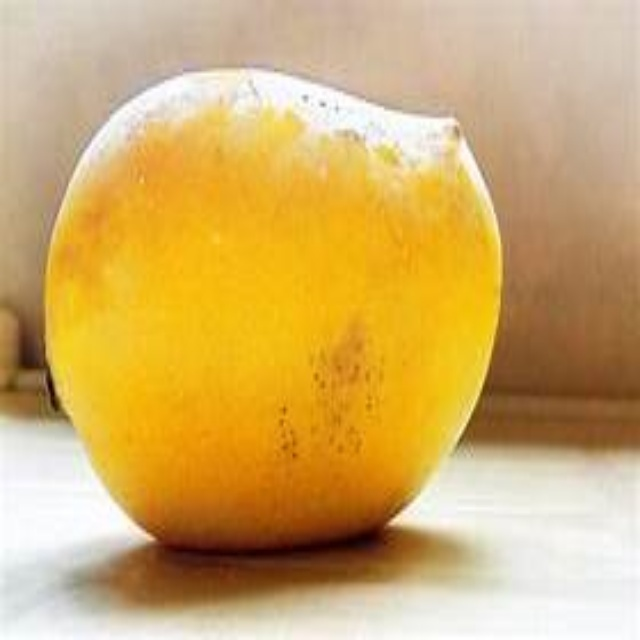mango: (51, 67, 511, 560)
